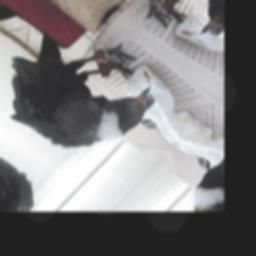Crow: (0, 3, 180, 177)
